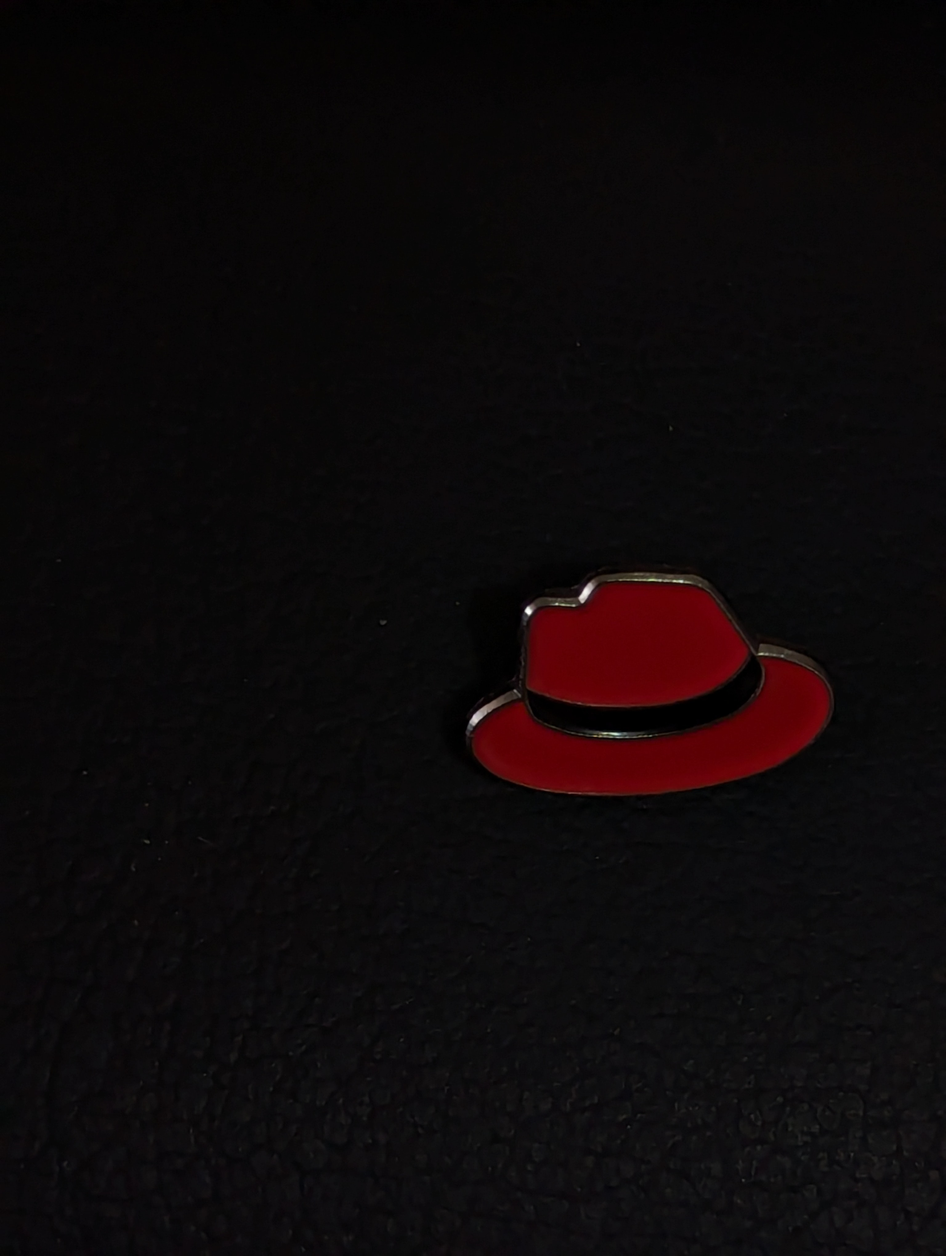Red-Hat: (359, 416, 895, 869)
